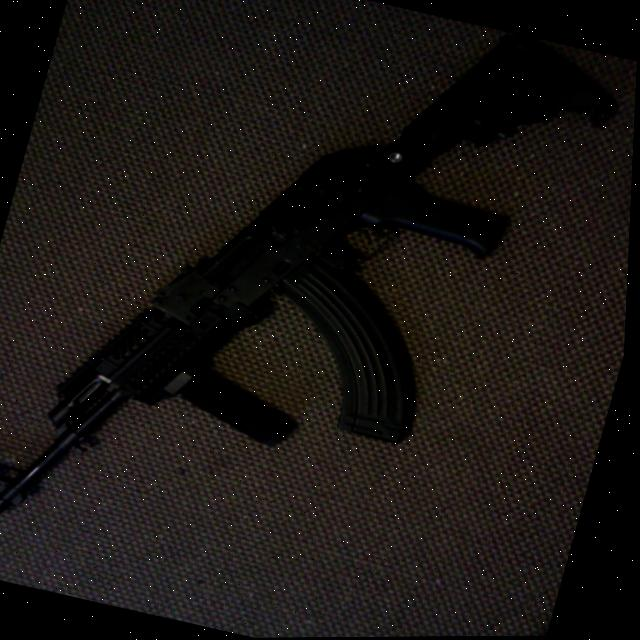firearm: (0, 0, 629, 631)
